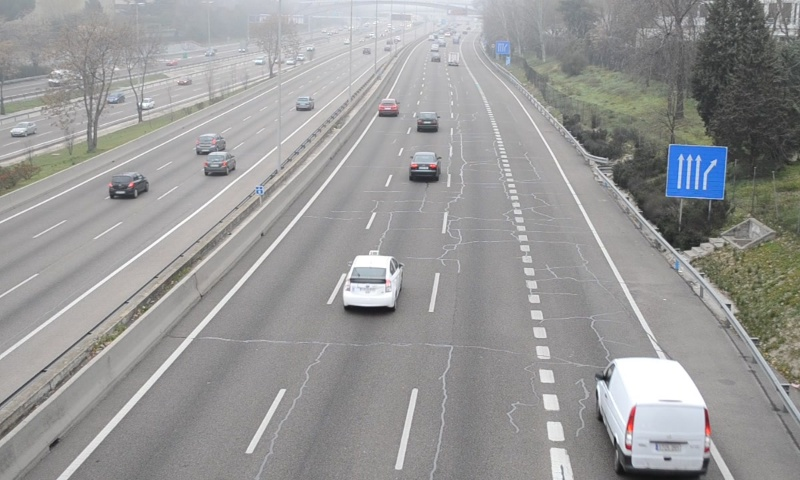car: (342, 255, 404, 309), (409, 150, 440, 176), (416, 111, 439, 132), (377, 98, 398, 117)
van: (596, 357, 710, 478)
